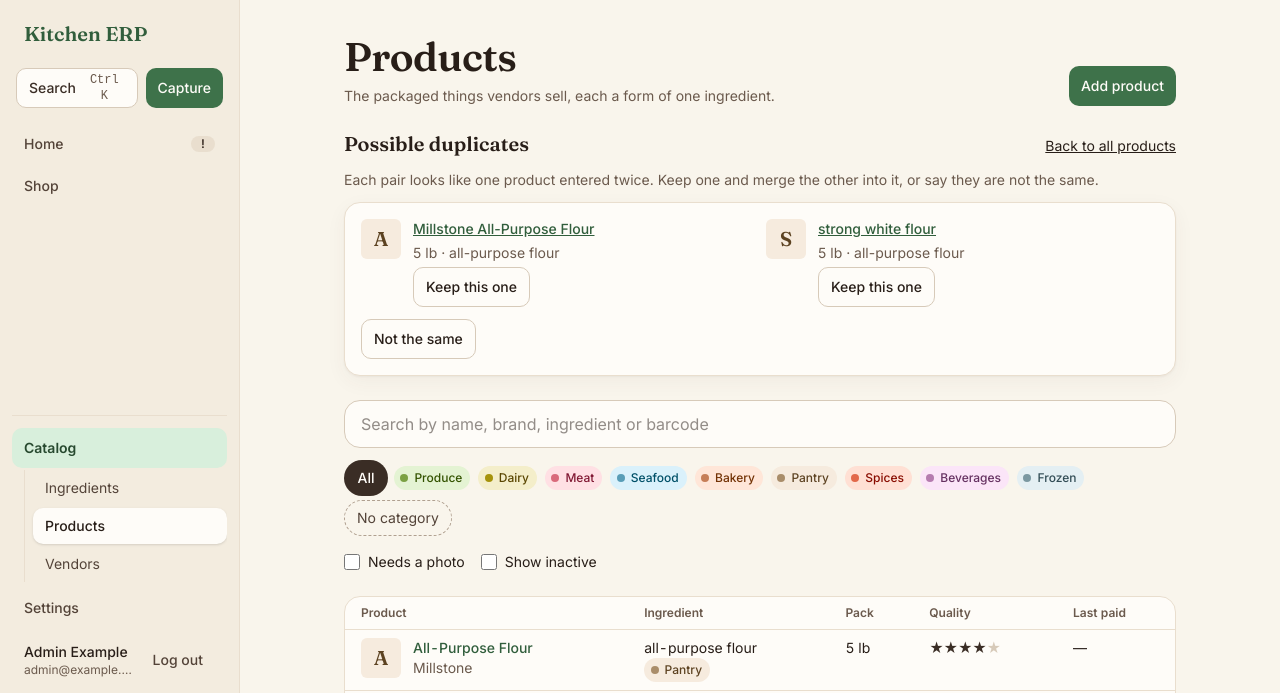
Scenario: possible duplicates › opens the merge with the product to keep already chosen
Click the 1st button "Keep this one".
click(472, 287)  # box [413,267,530,307]
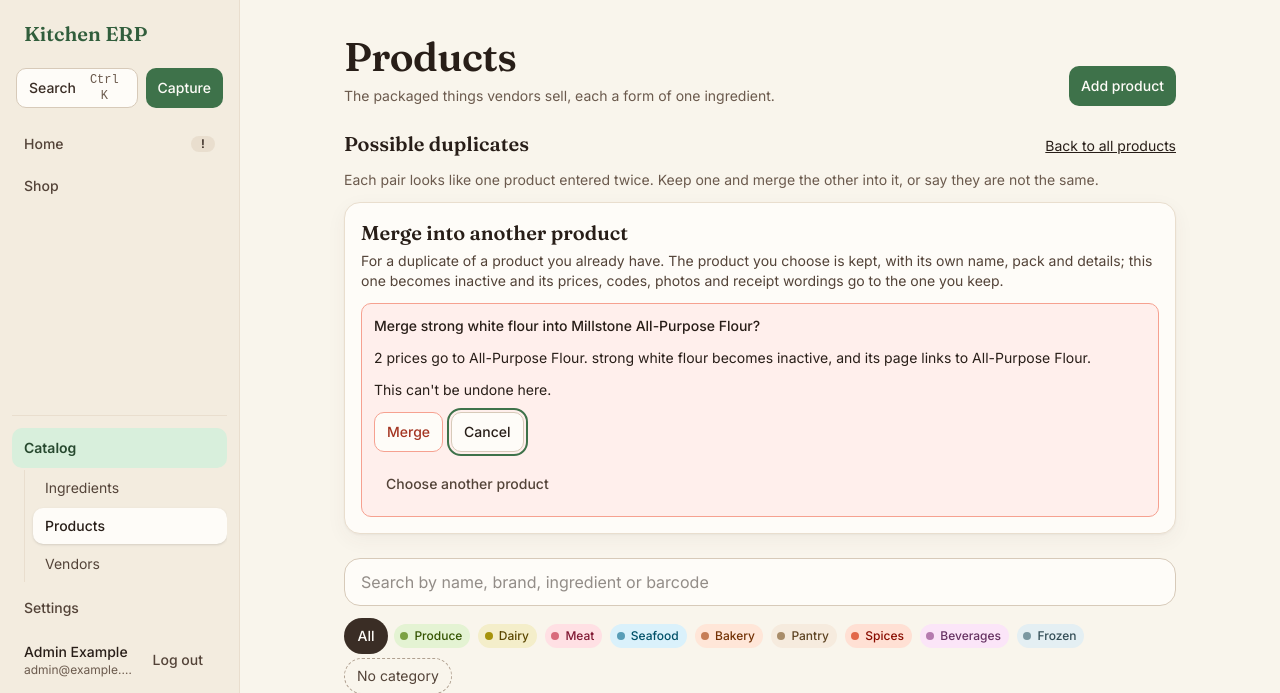
Expected: the heading "Merge strong white flour into Millstone All-Purpose Flour?" is shown, [374,317,760,334]
Expected: the text with test id "merge-moves" shows "2 prices go to", [374,349,588,366]
